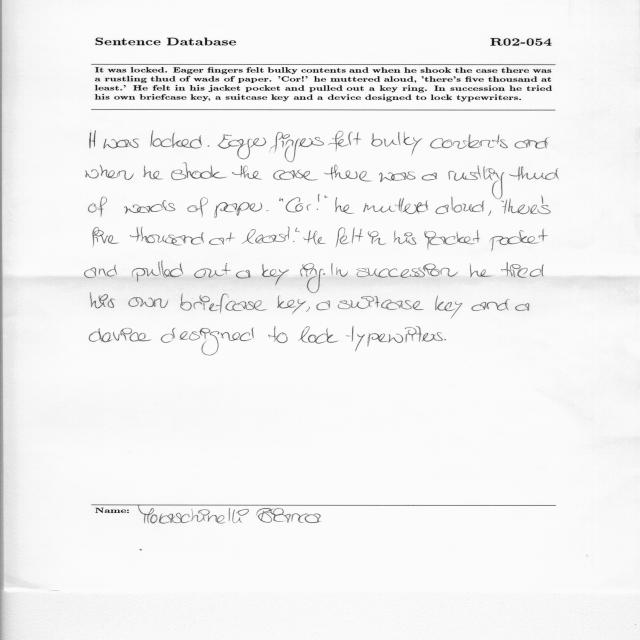word: (161, 328, 254, 356), (346, 326, 443, 352), (448, 166, 505, 200), (180, 294, 267, 313), (271, 132, 324, 162), (357, 263, 458, 278), (490, 229, 548, 252), (130, 227, 204, 245), (218, 135, 267, 160), (338, 296, 424, 310), (372, 132, 423, 155), (430, 134, 508, 149), (424, 230, 480, 250), (132, 261, 183, 282), (363, 198, 428, 214), (171, 163, 227, 180), (150, 131, 202, 149), (89, 328, 152, 342), (435, 197, 484, 214), (324, 165, 372, 182), (242, 227, 290, 244), (215, 202, 263, 218), (301, 263, 326, 293), (298, 326, 339, 344), (85, 165, 134, 180), (124, 200, 176, 214), (509, 167, 559, 181), (501, 262, 544, 278), (329, 131, 362, 151), (435, 296, 462, 319), (262, 265, 289, 286), (194, 263, 231, 278), (336, 227, 363, 247), (277, 296, 306, 314), (93, 227, 119, 247), (472, 299, 510, 311), (232, 165, 262, 180), (273, 170, 318, 180), (128, 297, 168, 308), (187, 197, 208, 217), (85, 265, 117, 278), (379, 172, 416, 183), (502, 199, 529, 214), (103, 138, 139, 149), (530, 196, 551, 214), (286, 197, 311, 212), (91, 293, 116, 308), (515, 138, 549, 149), (303, 230, 326, 245), (89, 197, 107, 216), (335, 197, 355, 214), (268, 326, 288, 343), (209, 233, 235, 245), (394, 231, 416, 245), (143, 166, 163, 180), (470, 264, 491, 277), (368, 231, 387, 245), (316, 301, 330, 311), (236, 270, 251, 279), (422, 173, 437, 181), (336, 267, 348, 277), (515, 303, 530, 311), (90, 131, 96, 149), (317, 195, 320, 210), (331, 263, 333, 275), (306, 306, 310, 312), (279, 198, 284, 202), (296, 228, 300, 233), (488, 211, 491, 216), (325, 195, 328, 198), (501, 201, 504, 203), (208, 145, 210, 147), (267, 210, 269, 211), (293, 241, 295, 242), (444, 339, 446, 340)
